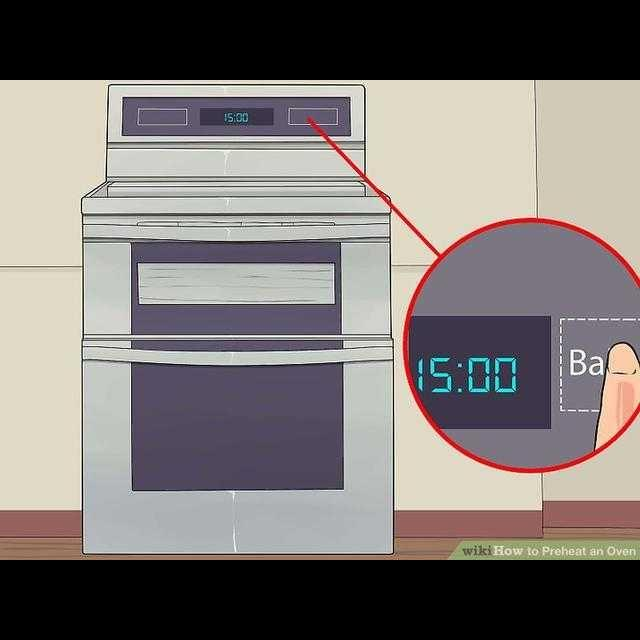Oven: (80, 197, 394, 557)
